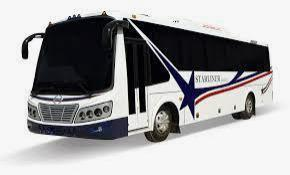bus: (22, 13, 273, 144)
